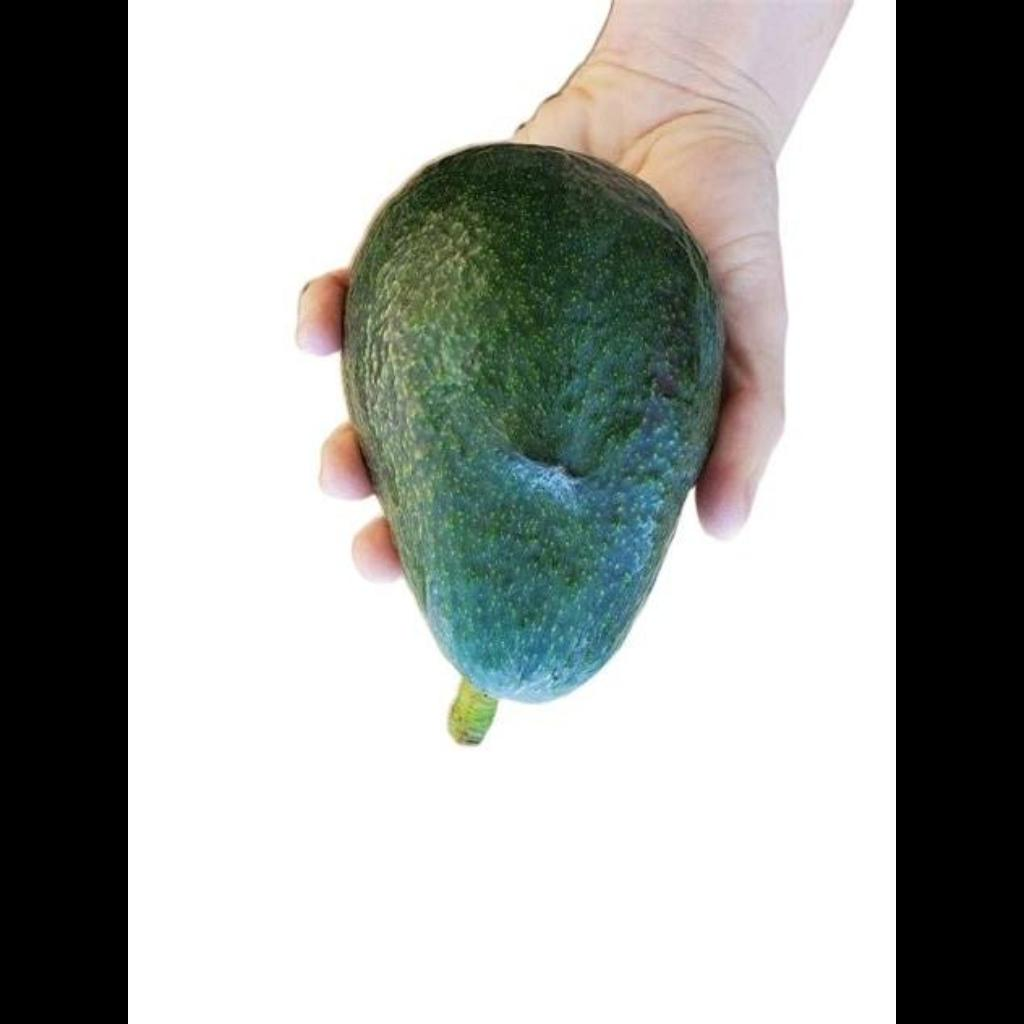Healthy: (346, 144, 728, 686)
